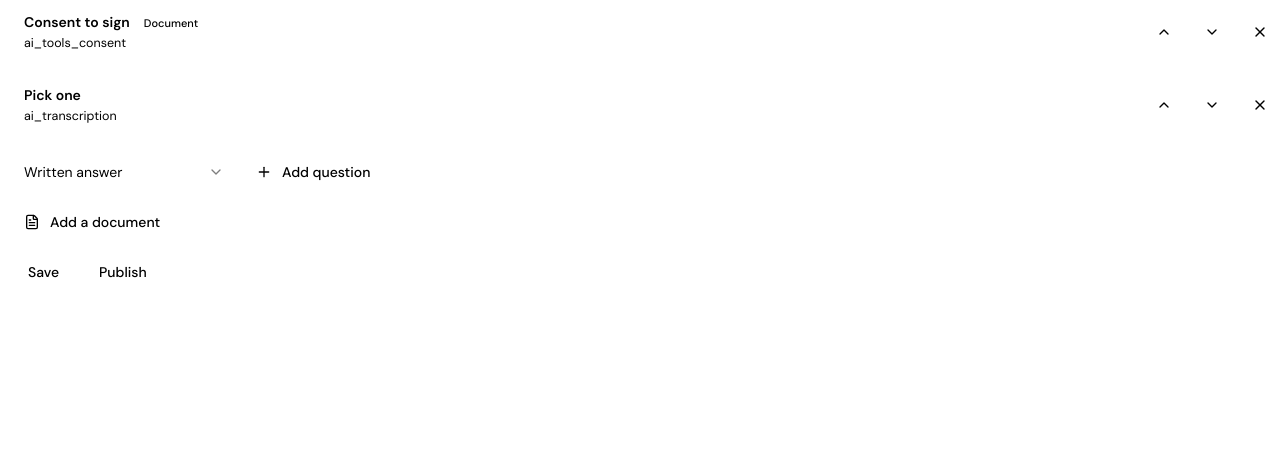
Scenario: IntakeItemEditor › adding a built-in document › adds nothing twice
Click the button "Add a document". click: (92, 222)
box: [12,206,172,238]
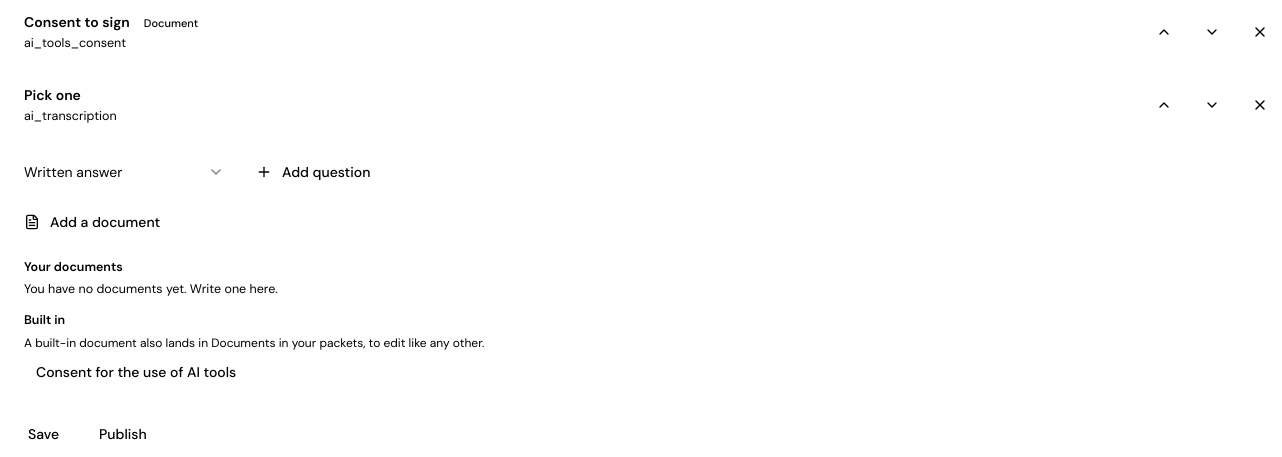
Click the button "Consent for the use of AI tools". click: (136, 372)
box: [24,356,248,388]
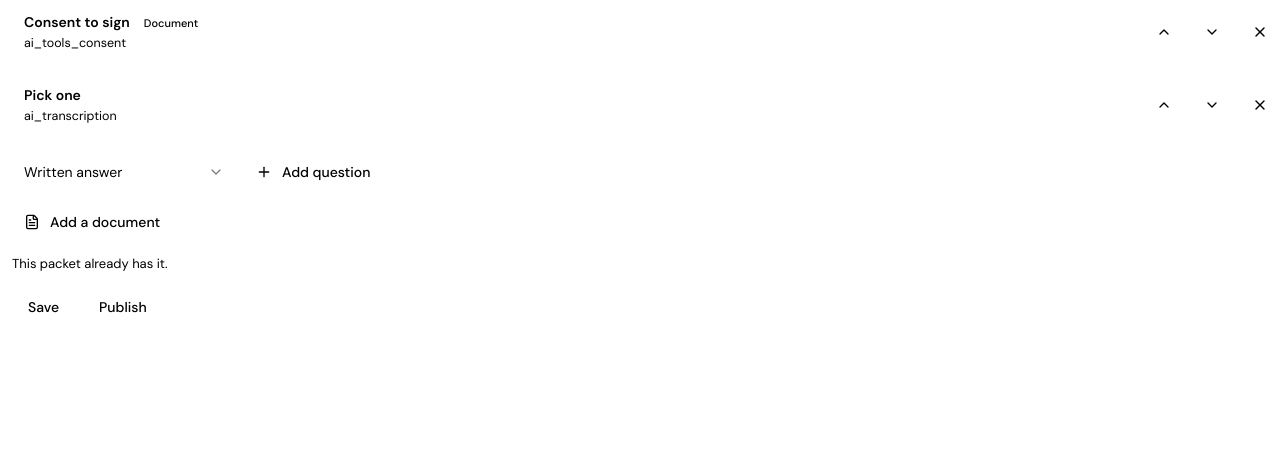
Check: the text "This packet already has it." is shown, box [12,254,168,272]
